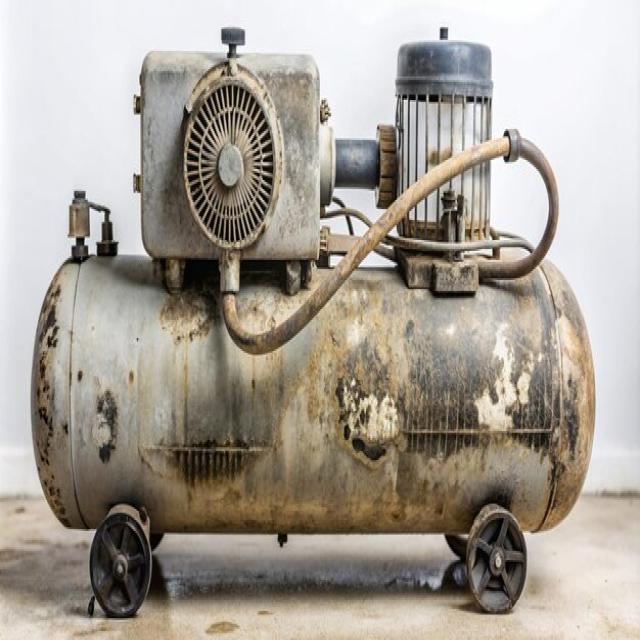compressor: (30, 22, 596, 618)
corrosion detected: (133, 26, 325, 288), (179, 64, 281, 255), (332, 369, 402, 464), (89, 384, 121, 467)
